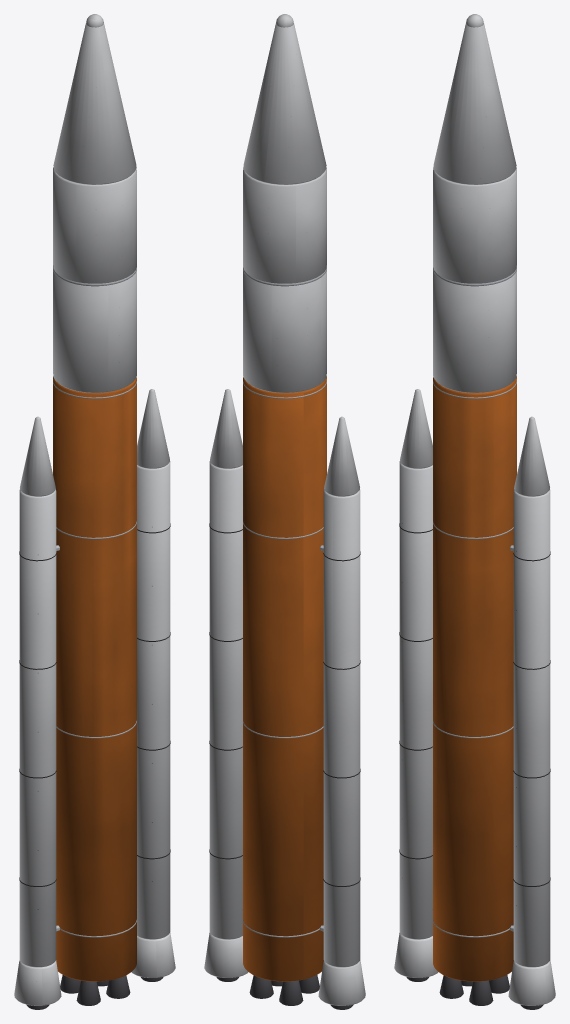
The model's file is sls.glb.
3 renders of one model, left to right at view 1: azimuth 30°, elevation 25°; view 2: azimuth 150°, elevation 25°; view 3: azimuth 330°, elevation 25°, orthographic.
Parts seen in each view (by area): view 1: CoreStage, BoosterL, BoosterR, UpperStage, Cone, Fairing, Cone.001, Cone.004, Cone.002, Cone.005, Cone.009, Cone.010; view 2: CoreStage, BoosterL, BoosterR, UpperStage, Cone, Fairing, Cone.001, Cone.004, Cone.002, Cone.005, Cone.007, Cone.008; view 3: CoreStage, BoosterR, BoosterL, UpperStage, Cone, Fairing, Cone.004, Cone.001, Cone.005, Cone.002, Cone.010, Cone.009.
Boxes of the visible parts, left/top/right/bottom form: CoreStage: left=53, top=376, right=136, bottom=981; BoosterL: left=19, top=489, right=56, bottom=967; BoosterR: left=137, top=461, right=170, bottom=939; UpperStage: left=53, top=270, right=136, bottom=392; Cone: left=53, top=23, right=136, bottom=184; Fairing: left=53, top=167, right=136, bottom=283; Cone.001: left=20, top=416, right=55, bottom=496; Cone.004: left=137, top=389, right=169, bottom=468; Cone.002: left=14, top=960, right=61, bottom=1005; Cone.005: left=131, top=932, right=175, bottom=977; Cone.009: left=76, top=980, right=100, bottom=1005; Cone.010: left=106, top=975, right=130, bottom=998; CoreStage: left=243, top=376, right=326, bottom=981; BoosterL: left=323, top=489, right=360, bottom=967; BoosterR: left=209, top=461, right=242, bottom=939; UpperStage: left=243, top=270, right=326, bottom=392; Cone: left=243, top=23, right=326, bottom=184; Fairing: left=243, top=167, right=326, bottom=283; Cone.001: left=324, top=416, right=359, bottom=496; Cone.004: left=210, top=389, right=242, bottom=468; Cone.002: left=318, top=960, right=365, bottom=1005; Cone.005: left=204, top=932, right=248, bottom=977; Cone.007: left=279, top=980, right=303, bottom=1005; Cone.008: left=249, top=975, right=273, bottom=998; CoreStage: left=433, top=376, right=516, bottom=981; BoosterR: left=513, top=489, right=550, bottom=967; BoosterL: left=399, top=461, right=432, bottom=939; UpperStage: left=433, top=270, right=516, bottom=392; Cone: left=433, top=23, right=516, bottom=184; Fairing: left=433, top=167, right=516, bottom=283; Cone.004: left=514, top=416, right=549, bottom=496; Cone.001: left=400, top=389, right=432, bottom=468; Cone.005: left=508, top=960, right=555, bottom=1005; Cone.002: left=394, top=932, right=438, bottom=977; Cone.010: left=469, top=980, right=493, bottom=1005; Cone.009: left=439, top=975, right=463, bottom=998.
Bounding box in the file's own units: 17.96 × 108 × 8.46.
5 materials, 2 textured.
